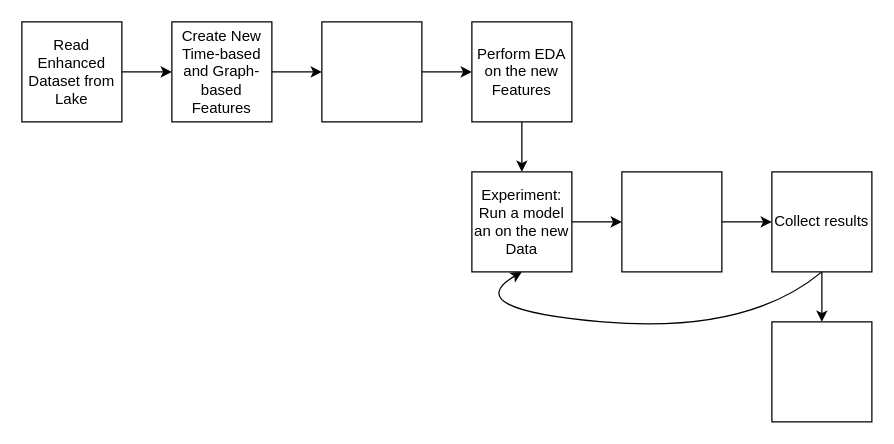
Image size: 894x444. Some labels were removed from this diagram. Here are the shapes that lost their labels. From the top down, the centre of each, then its label:
point 371,71: Write Data with new features to the lake
point 671,221: Fine-tune the model using Grid-Search
point 821,371: Report Best Model and Results
